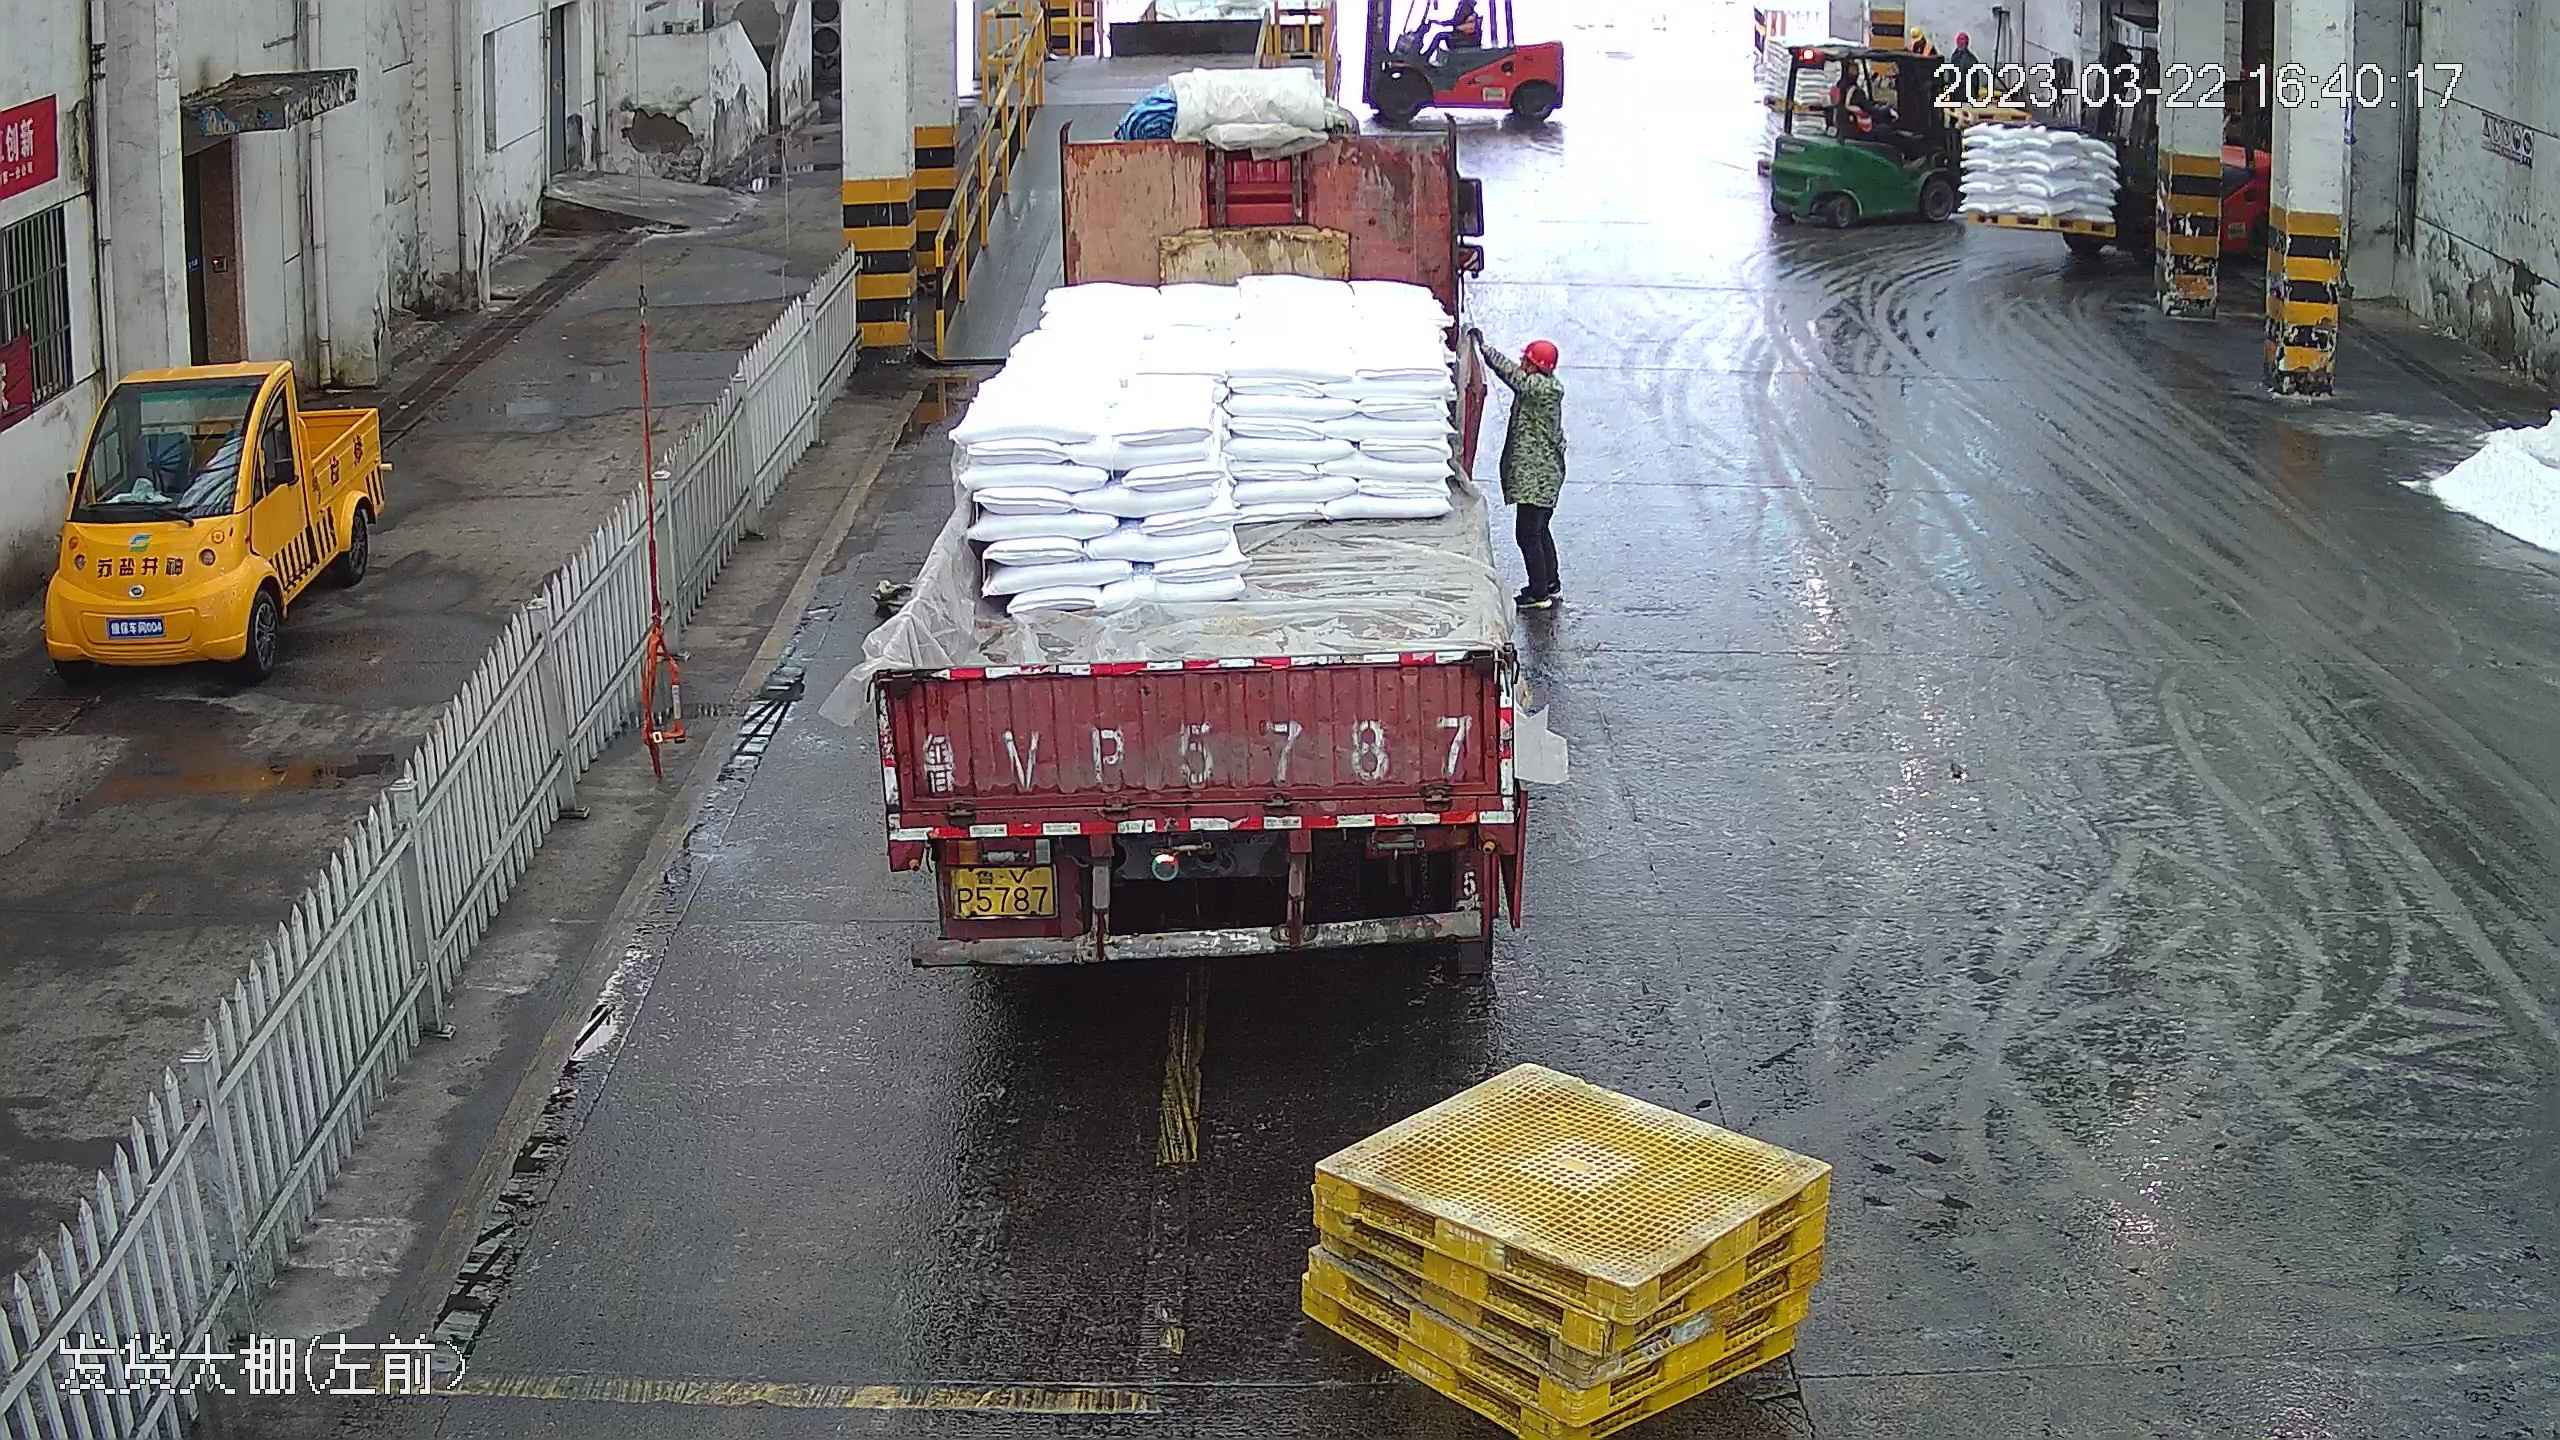head: (1500, 331, 1566, 420), (1949, 29, 1977, 69), (1904, 25, 1937, 56)
helmet: (1516, 332, 1559, 367), (1909, 26, 1925, 42), (1955, 31, 1969, 46)
people: (1491, 331, 1574, 626)
truck: (863, 56, 1532, 966)
